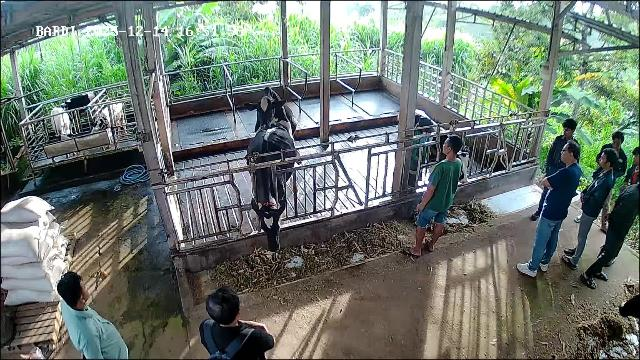mounting: (243, 89, 302, 185)
